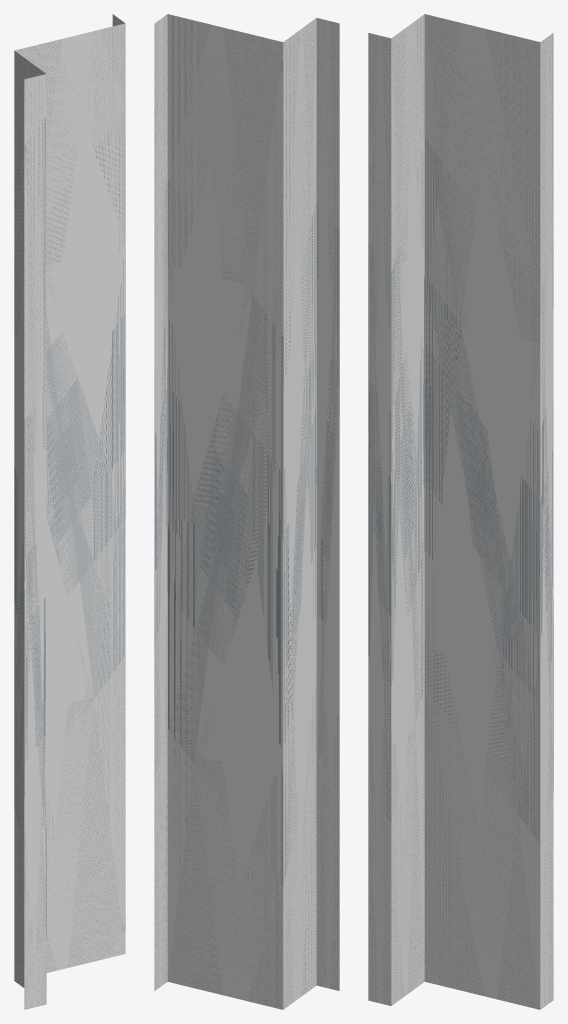
The model's file is PW_CornerFixElem_os_T3_035x060x010x400.dae.
3 views of the same model, side by side, from view 1: azimuth 30°, elevation 25°; view 2: azimuth 150°, elevation 25°; view 3: azimuth 330°, elevation 25° (orthographic). The views are drawn at different scales.
Visible parts, largest first — view 1: group_0; view 2: group_0; view 3: group_0.
Boxes of the visible parts, bbox=[...] form: group_0: bbox=[14, 14, 125, 1009]; group_0: bbox=[154, 14, 339, 1009]; group_0: bbox=[368, 14, 553, 1009].
Bounding box in the file's own units: 23.62 × 13.78 × 157.
